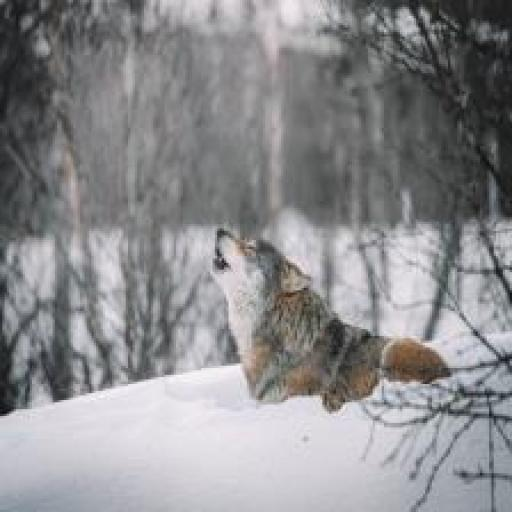wolf: (201, 224, 449, 421)
